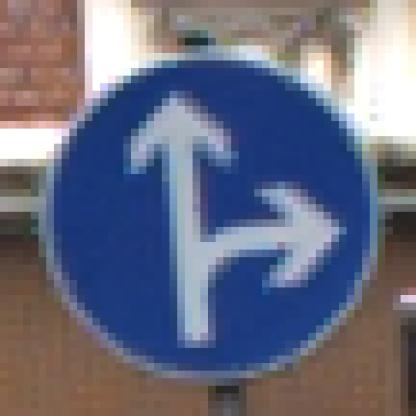Straight or Right: (40, 47, 379, 380)
